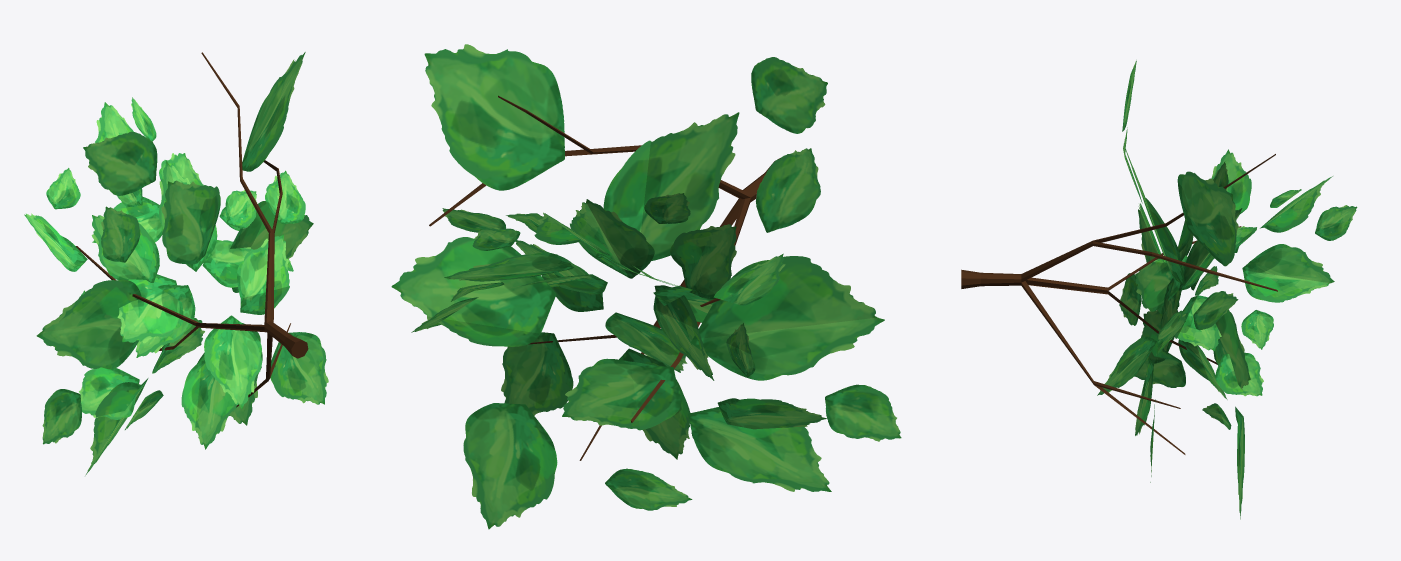
The model's file is Bush.fbx.
3 views of the same model, side by side, from view 1: azimuth 30°, elevation 25°; view 2: azimuth 150°, elevation 25°; view 3: azimuth 270°, elevation 25° (orthographic). The views are drawn at different scales.
Visible parts, largest first — view 1: BushMerged; view 2: BushMerged; view 3: BushMerged.
Boxes of the visible parts, x1,y1,x2,y2 form: BushMerged: (24,52,328,475); BushMerged: (391,44,901,529); BushMerged: (961,60,1357,519).
Bounding box in the file's own units: 272 × 285 × 274.
2 materials, 1 textured.
